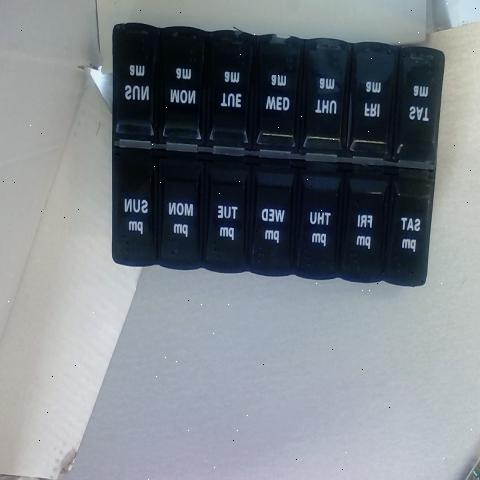FRI-am: (352, 48, 392, 149)
FRI-pm: (348, 173, 390, 280)
MON-am: (160, 34, 200, 133)
MON-pm: (161, 154, 201, 265)
SAT-am: (400, 59, 443, 157)
SAT-pm: (389, 172, 430, 280)
SUN-am: (115, 33, 159, 132)
SUN-pm: (114, 146, 159, 263)
THU-am: (304, 40, 342, 141)
THU-pm: (301, 165, 340, 268)
TUE-am: (211, 35, 249, 139)
TUE-pm: (203, 160, 248, 266)
WED-am: (258, 41, 298, 142)
WED-pm: (253, 163, 294, 267)
